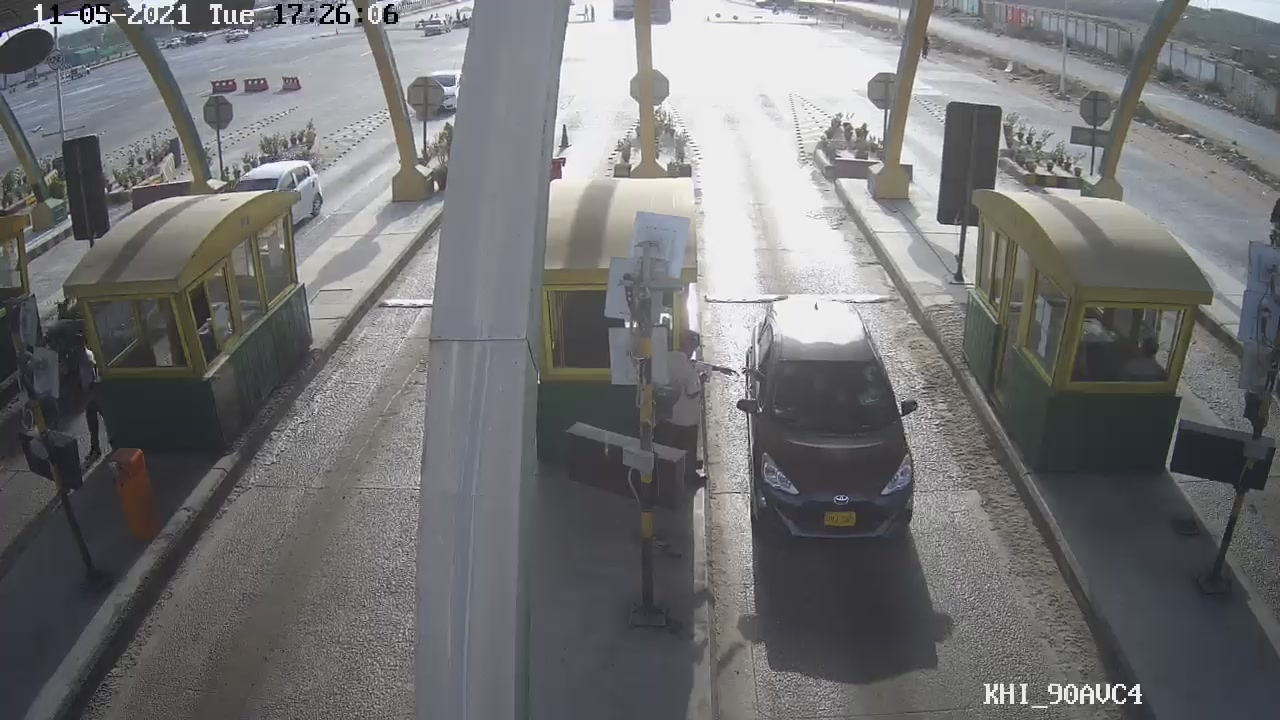F1: (732, 293, 925, 559)
